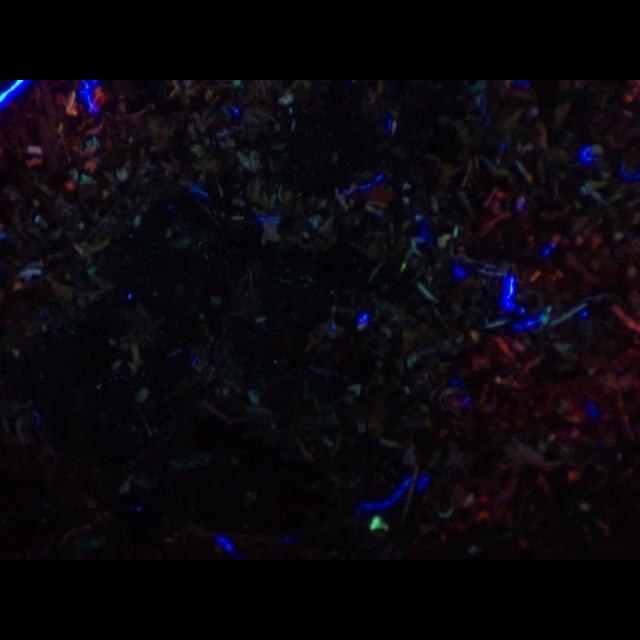microbeads: (369, 515, 389, 531)
